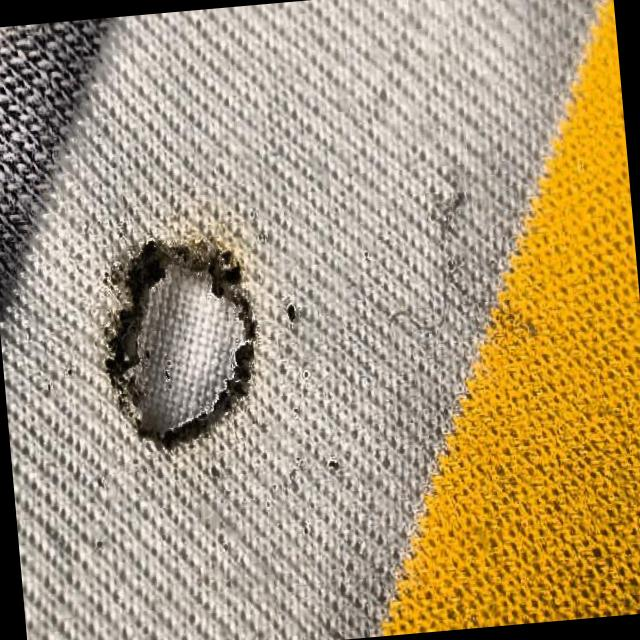cut: (72, 200, 294, 490)
